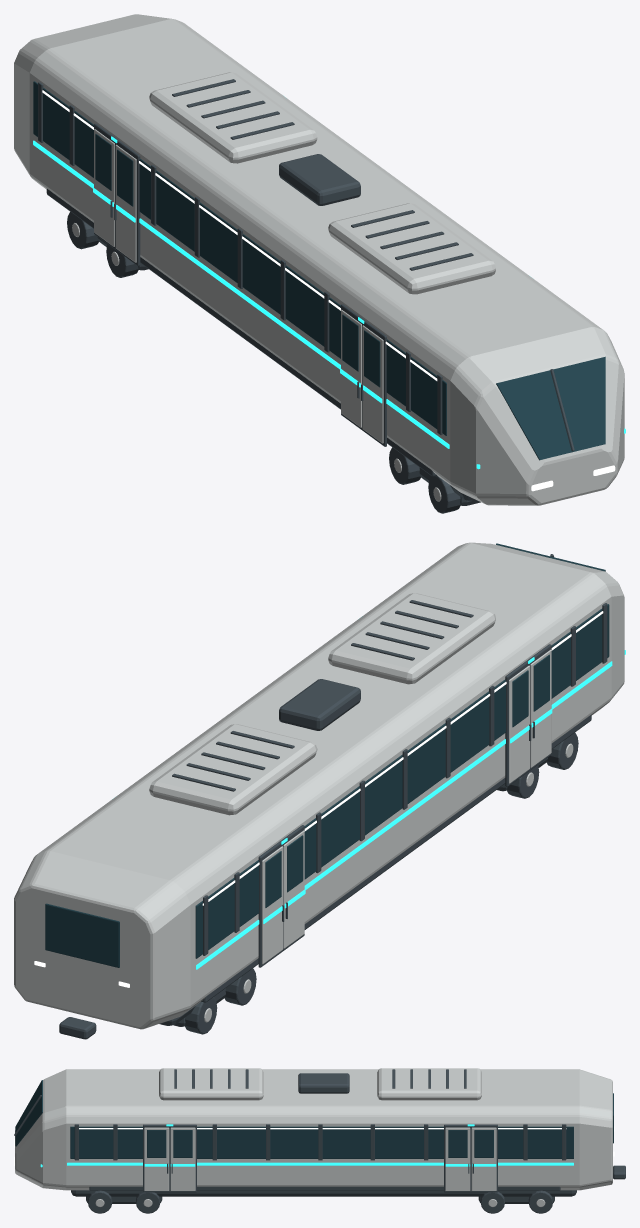
File: SkyTrainCar.fbx
3 renders of one model, top to bottom at view 1: azimuth 30°, elevation 25°; view 2: azimuth 150°, elevation 25°; view 3: azimuth 270°, elevation 25°, orthographic. The views are drawn at different scales.
Parts seen in each view (by area): view 1: SkyTrainCar_SC_Concrete, SkyTrainCar_SC_Glass, SkyTrainCar_SC_Metal, SkyTrainCar_SC_Cyan, SkyTrainCar_SC_Warm; view 2: SkyTrainCar_SC_Concrete, SkyTrainCar_SC_Glass, SkyTrainCar_SC_Metal, SkyTrainCar_SC_Cyan, SkyTrainCar_SC_Warm; view 3: SkyTrainCar_SC_Concrete, SkyTrainCar_SC_Glass, SkyTrainCar_SC_Metal, SkyTrainCar_SC_Cyan, SkyTrainCar_SC_Warm.
Part boxes in pixels (<box>): SkyTrainCar_SC_Concrete: <box>14,14,624,505</box>; SkyTrainCar_SC_Glass: <box>33,81,605,460</box>; SkyTrainCar_SC_Metal: <box>38,79,574,513</box>; SkyTrainCar_SC_Cyan: <box>33,136,625,469</box>; SkyTrainCar_SC_Warm: <box>42,90,615,491</box>; SkyTrainCar_SC_Concrete: <box>14,542,624,1029</box>; SkyTrainCar_SC_Glass: <box>45,543,609,967</box>; SkyTrainCar_SC_Metal: <box>59,554,607,1039</box>; SkyTrainCar_SC_Cyan: <box>196,650,625,969</box>; SkyTrainCar_SC_Warm: <box>34,611,603,987</box>; SkyTrainCar_SC_Concrete: <box>15,1068,612,1207</box>; SkyTrainCar_SC_Glass: <box>15,1080,613,1158</box>; SkyTrainCar_SC_Metal: <box>14,1069,625,1213</box>; SkyTrainCar_SC_Cyan: <box>40,1124,573,1167</box>; SkyTrainCar_SC_Warm: <box>14,1126,614,1165</box>.
Size of the model in its own units: 2.8 by 2.93 by 14.02.
